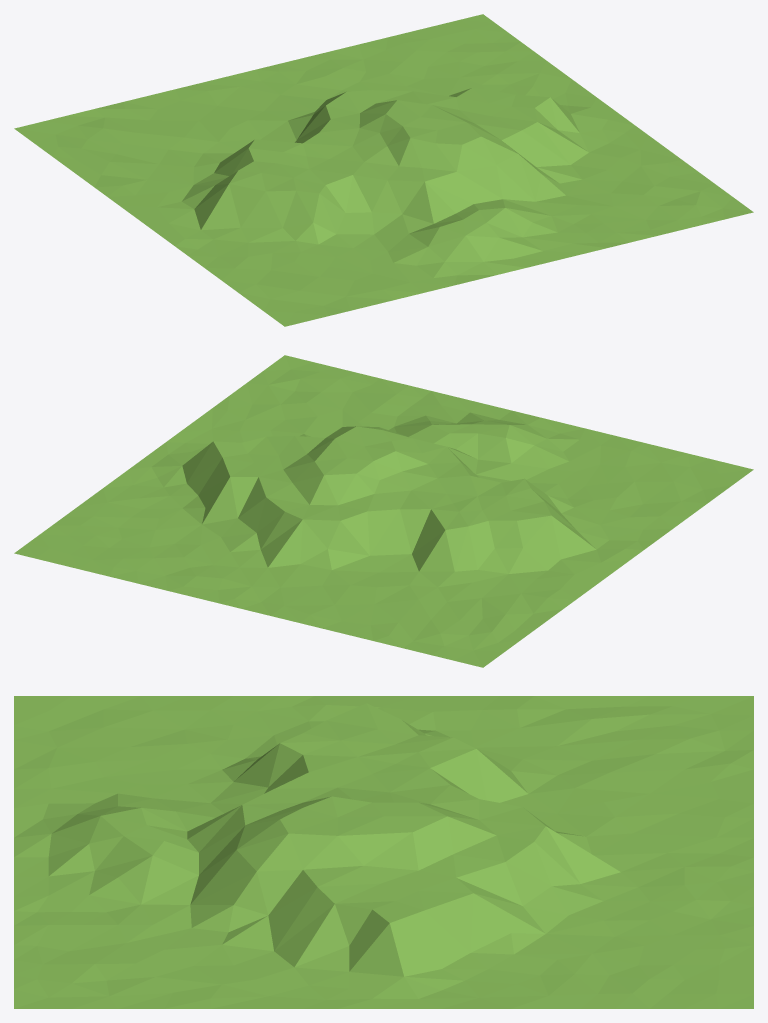
Rendered from MT_Terrain_M_c_06_LOD.fbx.
3 views of the same model, one above another, from view 1: azimuth 30°, elevation 25°; view 2: azimuth 150°, elevation 25°; view 3: azimuth 270°, elevation 25° (orthographic). The views are drawn at different scales.
Visible parts, largest first — view 1: MT_Terrain_M_c_06_LOD0; view 2: MT_Terrain_M_c_06_LOD0; view 3: MT_Terrain_M_c_06_LOD0.
Boxes of the visible parts, x1,y1,x2,y2 form: MT_Terrain_M_c_06_LOD0: (14, 14, 753, 326); MT_Terrain_M_c_06_LOD0: (14, 355, 753, 667); MT_Terrain_M_c_06_LOD0: (14, 696, 753, 1008).
Size of what is drawn, in the model's own units: 5000 by 463 by 5000.
